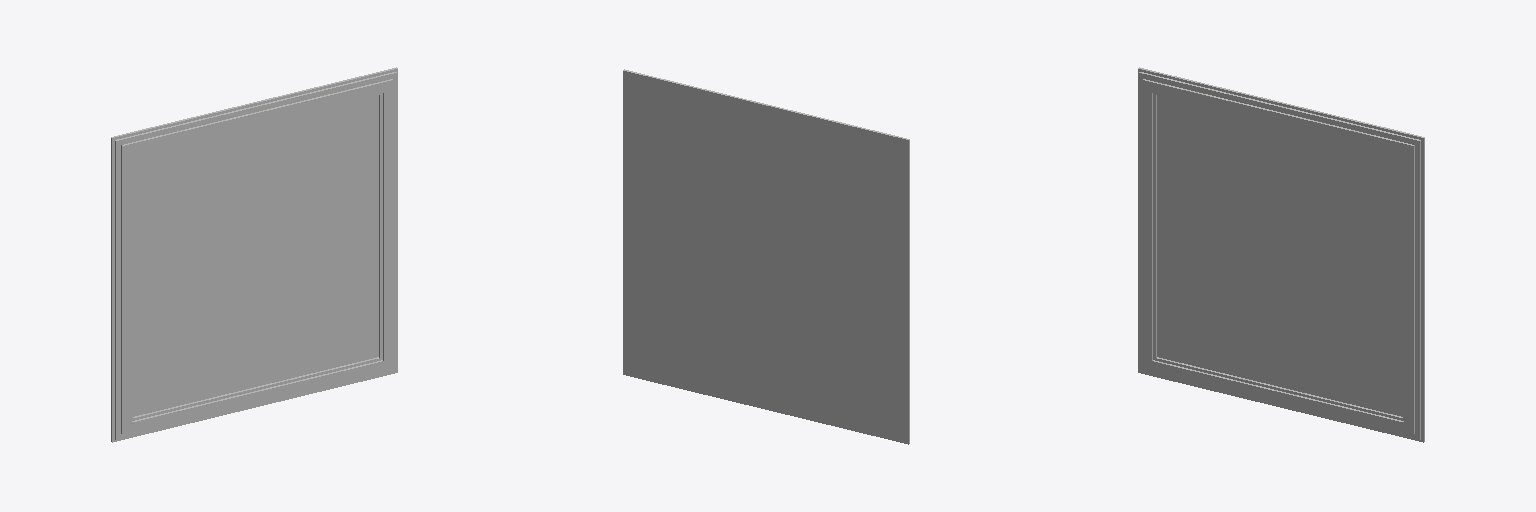
Rendered from pika.obj.
The picture shows the model from 3 angles: view 1: azimuth 30°, elevation 25°; view 2: azimuth 150°, elevation 25°; view 3: azimuth 330°, elevation 25°; orthographic projection.
Size of the model in its own units: 117 by 119 by 3.